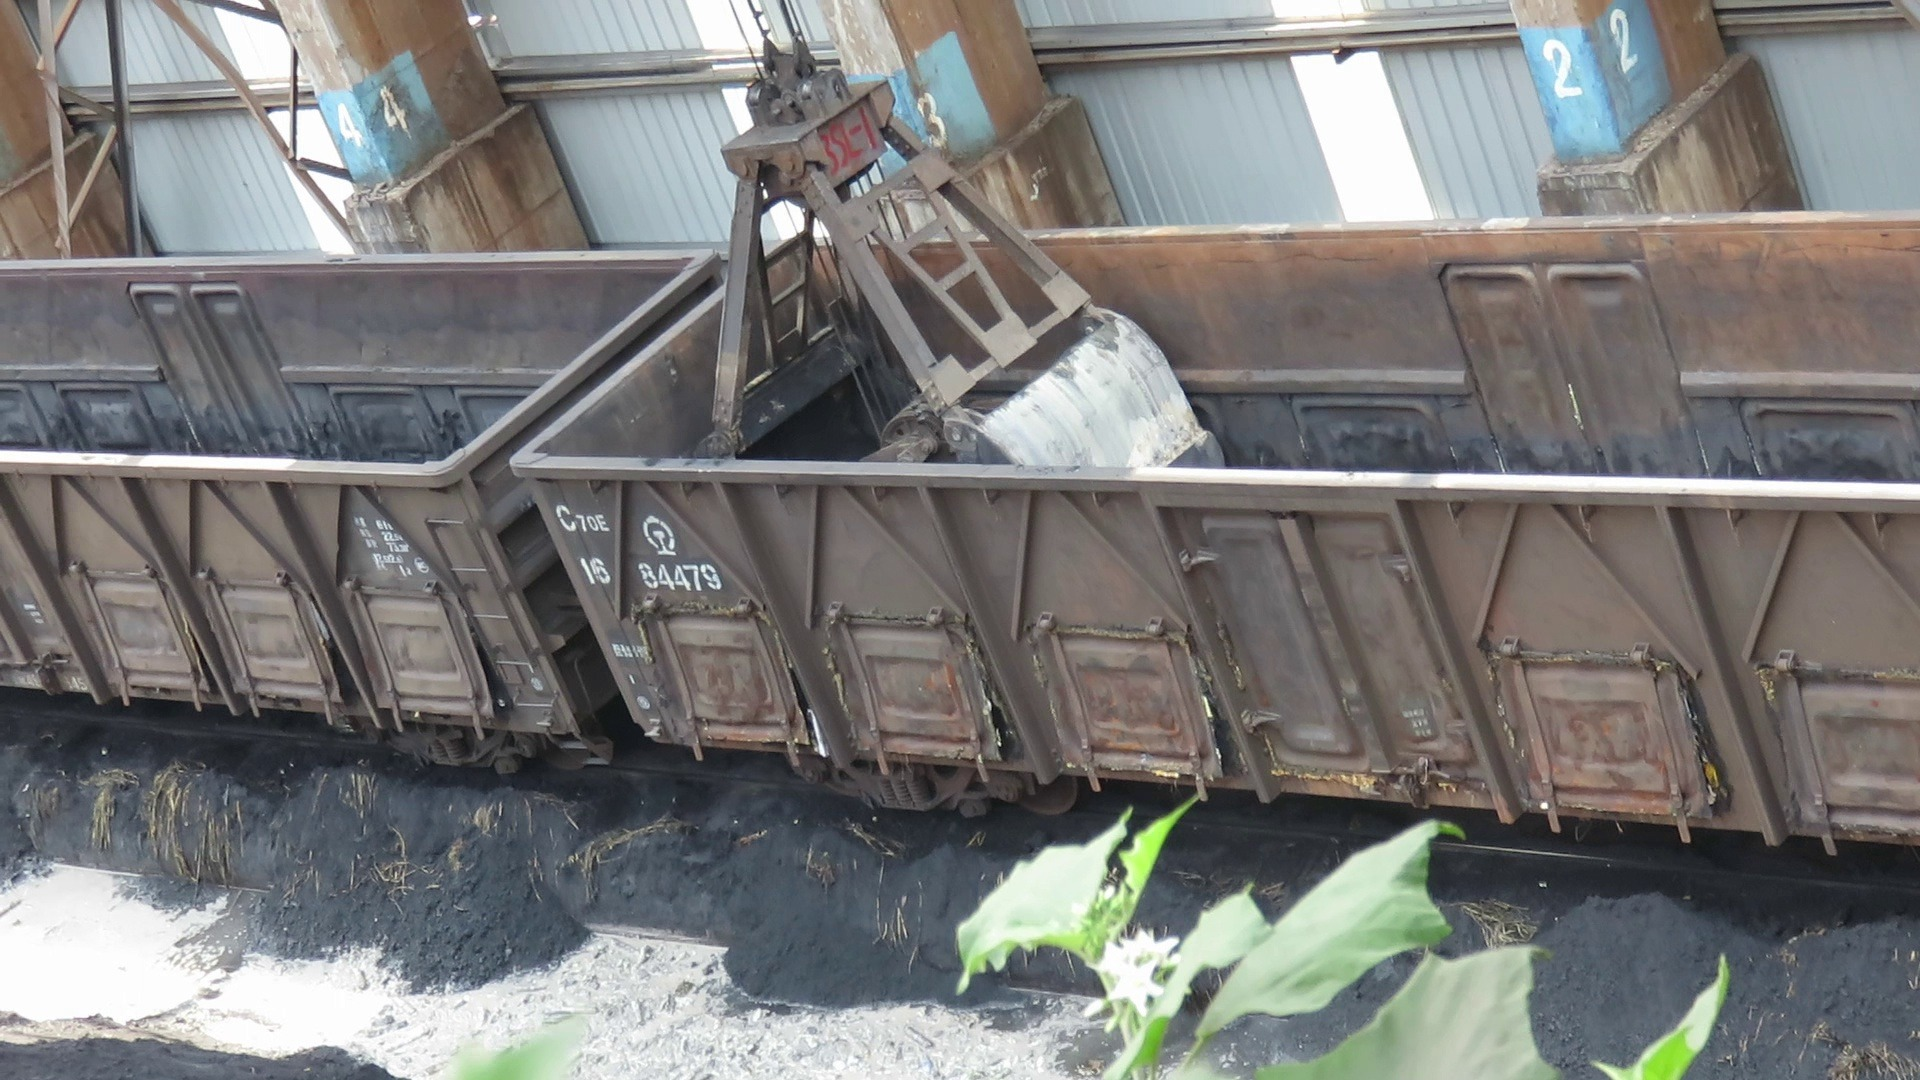grab: (684, 36, 1233, 491)
